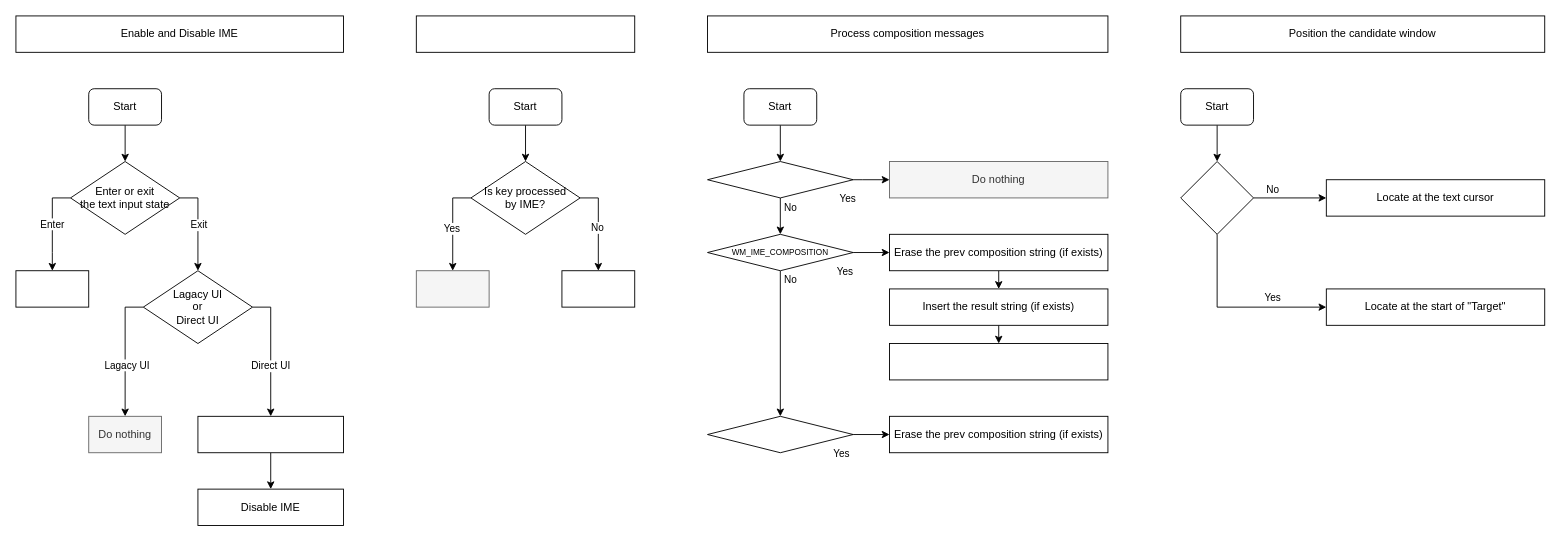
Image size: 1561x541. Some labels were removed from this diagram. The box of each missing label's shape, as (x1, y1, x2, y2) in pixels:
Draw the composition string (if exists): (889, 343, 1108, 380)
Enable IME: (15, 270, 89, 307)
Force complete or cancel the ongoing composition: (197, 415, 344, 453)
Handle key: (561, 270, 635, 307)
Ignore key: (415, 270, 489, 307)
Is composing?: (1180, 161, 1254, 234)
Process key messages: (415, 15, 635, 52)
WM_IME_ENDCOMPOSITION: (707, 415, 853, 453)
WM_IME_STARTCOMPOSITION: (707, 161, 853, 198)
